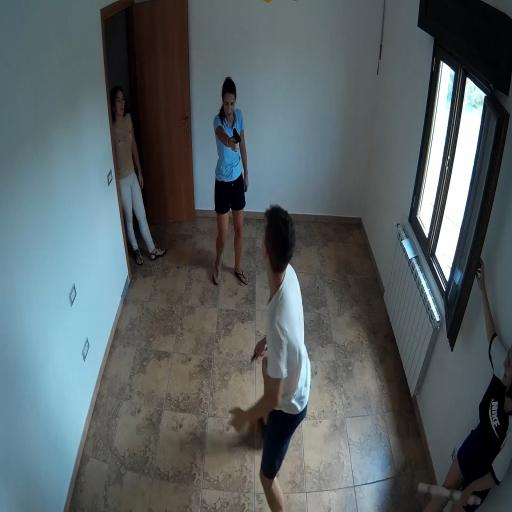violencia: (199, 55, 319, 512)
